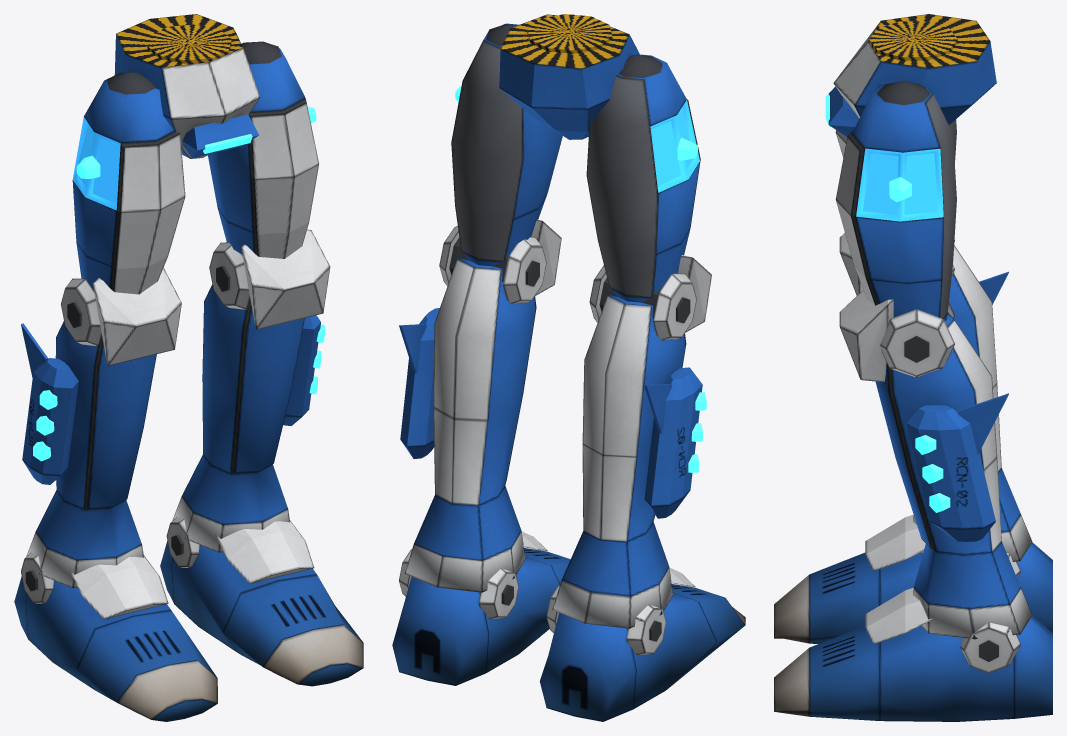
Rendered from ReconLegsX.glb.
The picture shows the model from 3 angles, left to right: view 1: azimuth 30°, elevation 25°; view 2: azimuth 150°, elevation 25°; view 3: azimuth 270°, elevation 25°; orthographic projection. The views are drawn at different scales.
Visible parts, largest first — view 1: ReconLegsX_ShinL, ReconLegsX_ShinR, ReconLegsX_FootL, ReconLegsX_FootR, ReconLegsX_ThighL, ReconLegsX_Pelvis, ReconLegsX_ThighR; view 2: ReconLegsX_ShinR, ReconLegsX_ShinL, ReconLegsX_ThighL, ReconLegsX_FootL, ReconLegsX_ThighR, ReconLegsX_FootR, ReconLegsX_Pelvis; view 3: ReconLegsX_ShinR, ReconLegsX_FootR, ReconLegsX_ThighR, ReconLegsX_Pelvis, ReconLegsX_FootL, ReconLegsX_ShinL.
Part boxes in pixels (left/top/right/bottom): ReconLegsX_ShinL: left=21, top=267, right=181, bottom=588; ReconLegsX_ShinR: left=172, top=229, right=330, bottom=552; ReconLegsX_FootL: left=14, top=552, right=217, bottom=721; ReconLegsX_FootR: left=160, top=517, right=363, bottom=686; ReconLegsX_ThighL: left=72, top=75, right=185, bottom=294; ReconLegsX_Pelvis: left=107, top=14, right=281, bottom=158; ReconLegsX_ThighR: left=208, top=48, right=318, bottom=258; ReconLegsX_ShinR: left=399, top=219, right=561, bottom=592; ReconLegsX_ShinL: left=552, top=255, right=711, bottom=628; ReconLegsX_ThighL: left=586, top=54, right=700, bottom=302; ReconLegsX_FootL: left=539, top=568, right=745, bottom=721; ReconLegsX_ThighR: left=451, top=23, right=562, bottom=266; ReconLegsX_FootR: left=392, top=531, right=570, bottom=685; ReconLegsX_Pelvis: left=486, top=14, right=662, bottom=139; ReconLegsX_ShinR: left=839, top=290, right=1032, bottom=639; ReconLegsX_FootR: left=774, top=587, right=1052, bottom=721; ReconLegsX_ThighR: left=835, top=84, right=956, bottom=321; ReconLegsX_Pelvis: left=825, top=14, right=996, bottom=136; ReconLegsX_FootL: left=774, top=514, right=1052, bottom=643; ReconLegsX_ShinL: left=839, top=233, right=1032, bottom=561.
Bounding box in the file's own units: 10.57 × 21.56 × 8.7.
7 materials, 5 textured.
